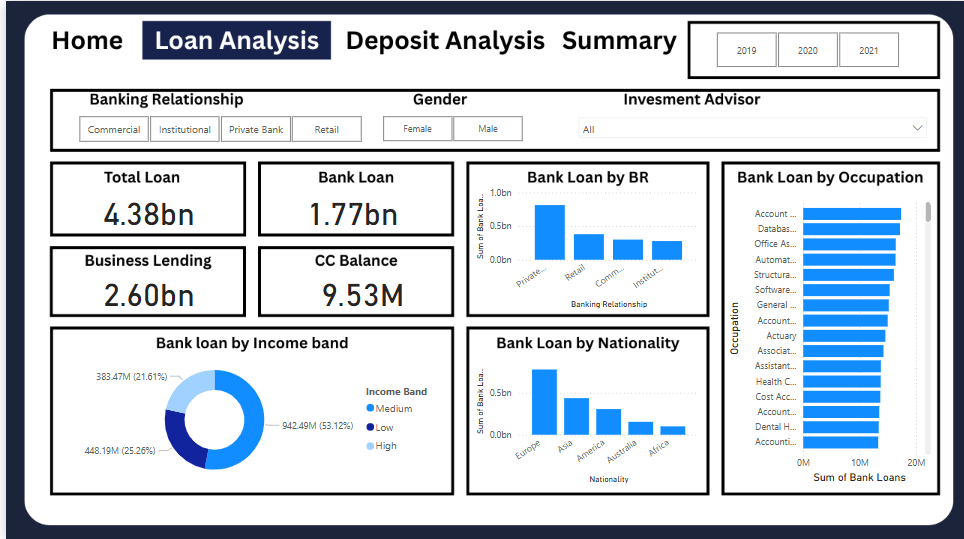

What the dashboard file says about the page in this screenshot:
{"tool":"powerbi","page":{"name":"Loan Analyis","canvas":[1280,720],"ordinal":1},"visuals":[{"type":"card","fields":{"Values":["Banking_Clients.Total Loan"]},"box":[100.2,255.2,181.1,49.4],"z":0},{"type":"card","fields":{"Values":["Sum(Banking_Clients.Bank Loans)"]},"box":[371.9,255.2,181.1,49.4],"z":1000},{"type":"card","fields":{"Values":["Sum(Banking_Clients.Business Lending)"]},"box":[100.2,359.5,181.1,56.3],"z":2000},{"type":"card","fields":{"Values":["Sum(Banking_Clients.Credit Card Balance)"]},"box":[385.6,359.5,181.1,56.3],"z":3000},{"type":"slicer","fields":{"Values":["Banking_Clients.Joining Year"]},"box":[921.4,35.7,292.9,60],"z":4000},{"type":"donutChart","fields":{"Y":["Sum(Banking_Clients.Bank Loans)"],"Category":["Banking_Clients.Income Band"]},"box":[72.4,467.8,512.9,180.5],"z":5000},{"type":"clusteredColumnChart","fields":{"Category":["Banking Relationship.Banking Relationship"],"Y":["Sum(Banking_Clients.Bank Loans)"]},"box":[622.2,242.2,307.5,173.4],"z":6000},{"type":"clusteredColumnChart","fields":{"Y":["Sum(Banking_Clients.Bank Loans)"],"Category":["Banking_Clients.Nationality"]},"box":[622.2,474.9,307.5,173.4],"z":7000},{"type":"clusteredBarChart","fields":{"Category":["Banking_Clients.Occupation"],"Y":["Sum(Banking_Clients.Bank Loans)"]},"box":[958.2,255.3,280.2,393],"z":8000},{"type":"actionButton","box":[448.8,24.9,275.5,54.6],"z":9000},{"type":"actionButton","box":[736.2,24.9,161.5,54.6],"z":10000},{"type":"actionButton","box":[53.4,24.9,106.9,54.6],"z":11000},{"type":"slicer","fields":{"Values":["Banking Relationship.Banking Relationship"]},"box":[72.4,146,426.3,47.5],"z":12000},{"type":"slicer","fields":{"Values":["Gender.Gender"]},"box":[476.2,146.8,236,46.7],"z":13000},{"type":"slicer","fields":{"Values":["Investment Advisor.Investment Advisor"]},"box":[753.3,145.5,484.4,46.7],"z":14000}]}

Visuals, with their boxes in screenshot pixels (x1, y1, x2, y2), scaled from the page's 1280x720 canvas onto the 964x539 screenshot:
card - Banking_Clients.Total Loan: <bbox>75, 191, 212, 228</bbox>
card - Sum(Banking_Clients.Bank Loans): <bbox>280, 191, 416, 228</bbox>
card - Sum(Banking_Clients.Business Lending): <bbox>75, 269, 212, 311</bbox>
card - Sum(Banking_Clients.Credit Card Balance): <bbox>290, 269, 427, 311</bbox>
slicer - Banking_Clients.Joining Year: <bbox>694, 27, 915, 72</bbox>
donutChart - Sum(Banking_Clients.Bank Loans) x Banking_Clients.Income Band: <bbox>55, 350, 441, 485</bbox>
clusteredColumnChart - Banking Relationship.Banking Relationship x Sum(Banking_Clients.Bank Loans): <bbox>469, 181, 700, 311</bbox>
clusteredColumnChart - Sum(Banking_Clients.Bank Loans) x Banking_Clients.Nationality: <bbox>469, 356, 700, 485</bbox>
clusteredBarChart - Banking_Clients.Occupation x Sum(Banking_Clients.Bank Loans): <bbox>722, 191, 933, 485</bbox>
actionButton: <bbox>338, 19, 545, 60</bbox>
actionButton: <bbox>554, 19, 676, 60</bbox>
actionButton: <bbox>40, 19, 121, 60</bbox>
slicer - Banking Relationship.Banking Relationship: <bbox>55, 109, 376, 145</bbox>
slicer - Gender.Gender: <bbox>359, 110, 536, 145</bbox>
slicer - Investment Advisor.Investment Advisor: <bbox>567, 109, 932, 144</bbox>
